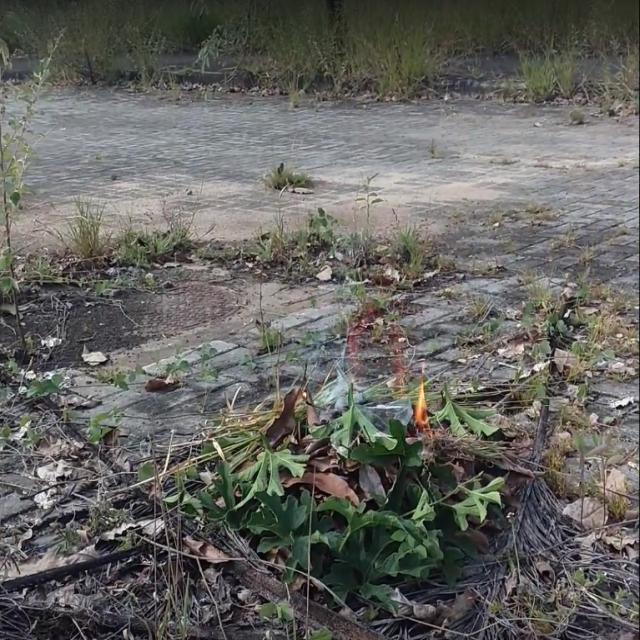Fire: (411, 379, 433, 437)
